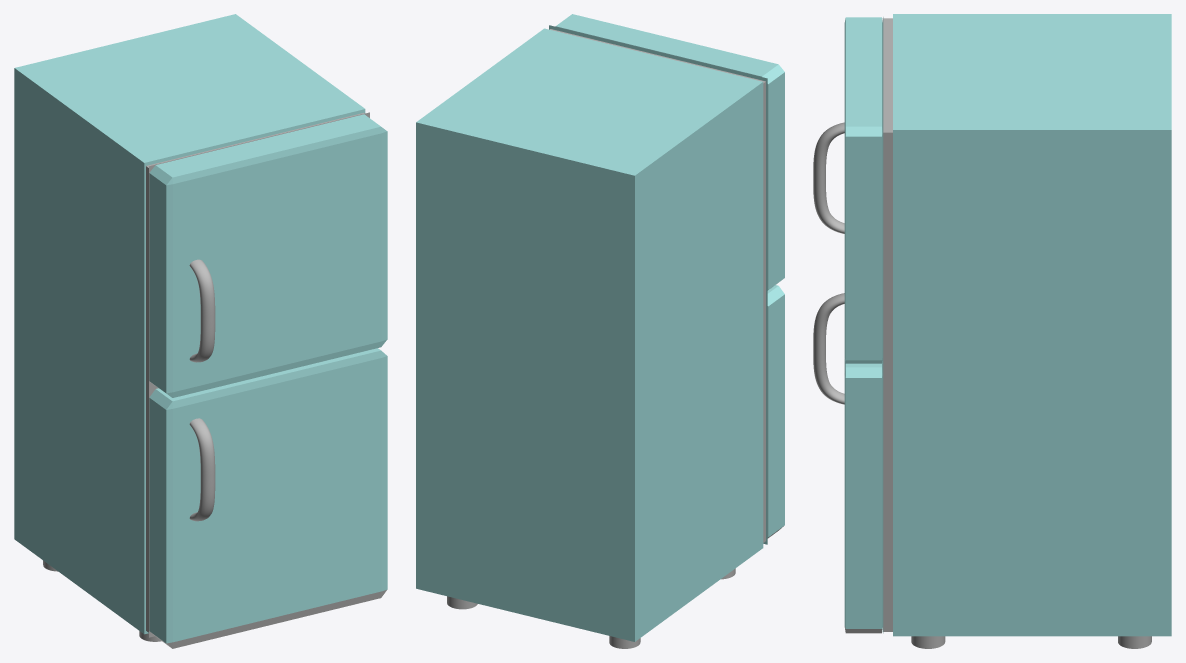
File: lodowka.fbx
3 views of the same model, side by side, from view 1: azimuth 30°, elevation 25°; view 2: azimuth 150°, elevation 25°; view 3: azimuth 270°, elevation 25° (orthographic). The views are drawn at different scales.
Visible parts, largest first — view 1: Cube.001, NurbsCurve.002; view 2: Cube.001, Cylinder.002; view 3: Cube.001, NurbsCurve.002, Cylinder.002.
Part boxes in pixels (x1,y1,x2,y2): Cube.001: (14, 14, 387, 648); NurbsCurve.002: (189, 259, 215, 521); Cube.001: (416, 14, 784, 641); Cylinder.002: (447, 568, 735, 648); Cube.001: (844, 14, 1171, 636); NurbsCurve.002: (813, 122, 844, 404); Cylinder.002: (911, 636, 1151, 648).
Bounding box in the file's own units: 296 × 628 × 387.
